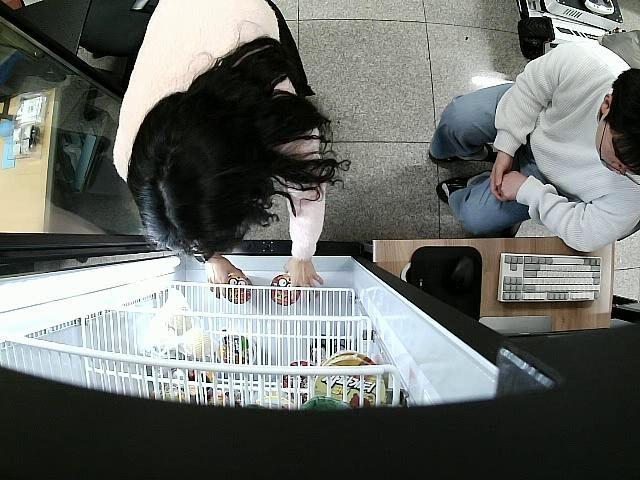06_nuguri_S: (272, 274, 302, 308), (224, 272, 253, 305)
